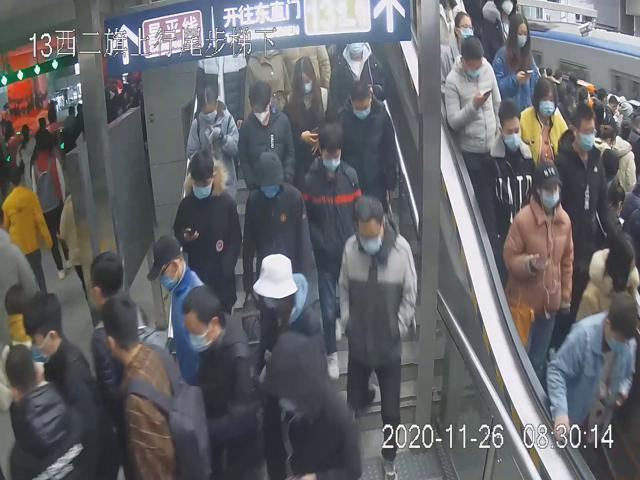person: (336, 192, 418, 478), (300, 120, 369, 380), (499, 158, 576, 372), (182, 283, 266, 478), (172, 148, 241, 320), (240, 148, 311, 311), (478, 99, 540, 277), (147, 232, 216, 387), (251, 248, 326, 389), (444, 36, 506, 186), (334, 81, 398, 213), (237, 78, 296, 193), (183, 82, 239, 198), (281, 56, 335, 172)
